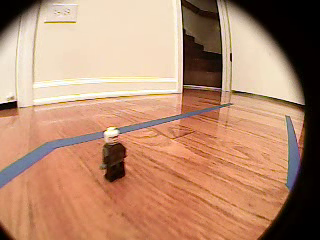Person: (101, 126, 129, 183)
